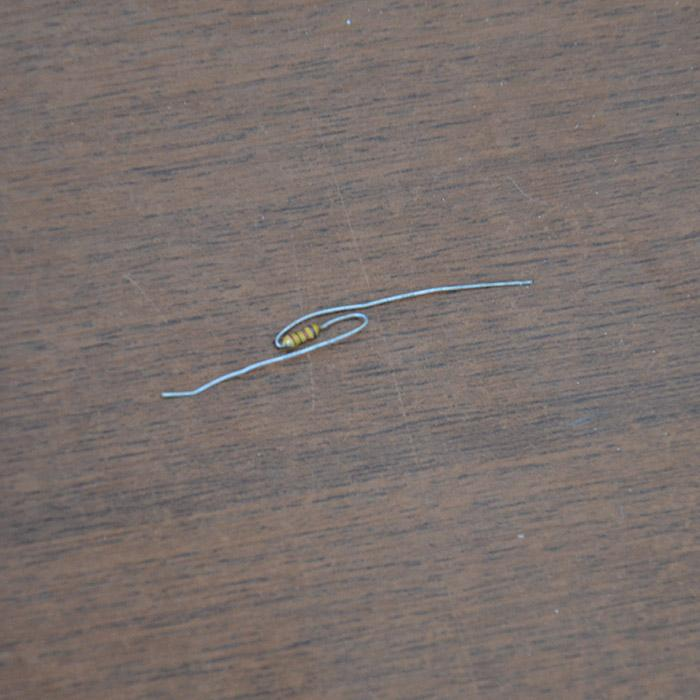resistor: (282, 321, 321, 349)
